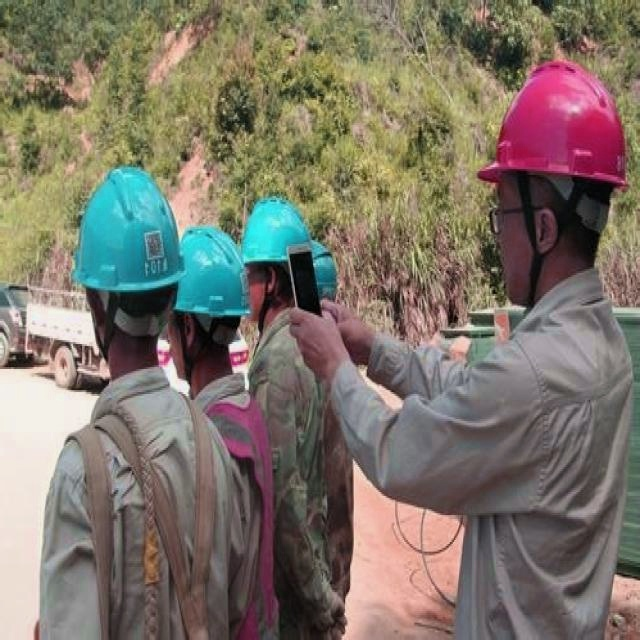Con_Casco: (476, 58, 628, 287)
